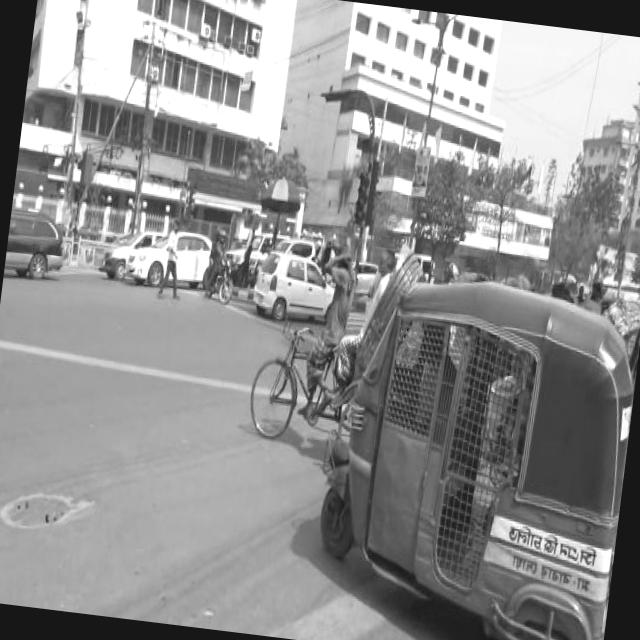car: (251, 246, 339, 325), (125, 222, 215, 288), (5, 204, 70, 282), (101, 222, 168, 283), (350, 258, 380, 294)
motorcycle: (305, 265, 640, 640), (248, 234, 428, 454), (210, 250, 239, 300)
